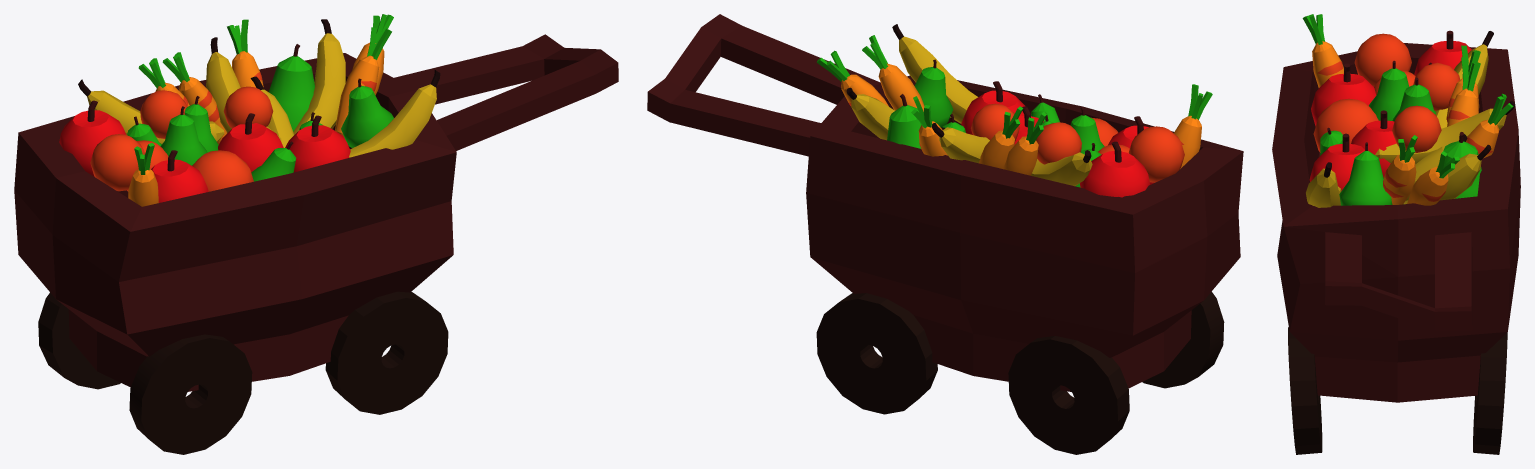
Rendered from market_cart.FBX.
3 views of the same model, side by side, from view 1: azimuth 30°, elevation 25°; view 2: azimuth 150°, elevation 25°; view 3: azimuth 270°, elevation 25° (orthographic).
Parts seen in each view (by area): view 1: Box001; view 2: Box001; view 3: Box001.
Boxes of the visible parts, x1,y1,x2,y2 form: Box001: [14, 14, 618, 454]; Box001: [647, 14, 1243, 454]; Box001: [1272, 14, 1520, 454].
Bounding box in the file's own units: 80.93 × 48.51 × 32.81.
